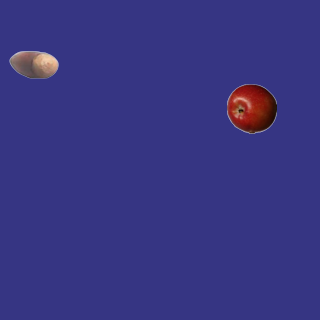Apple Braeburn: (226, 83, 276, 133)
Hazelnut: (8, 39, 58, 89)
